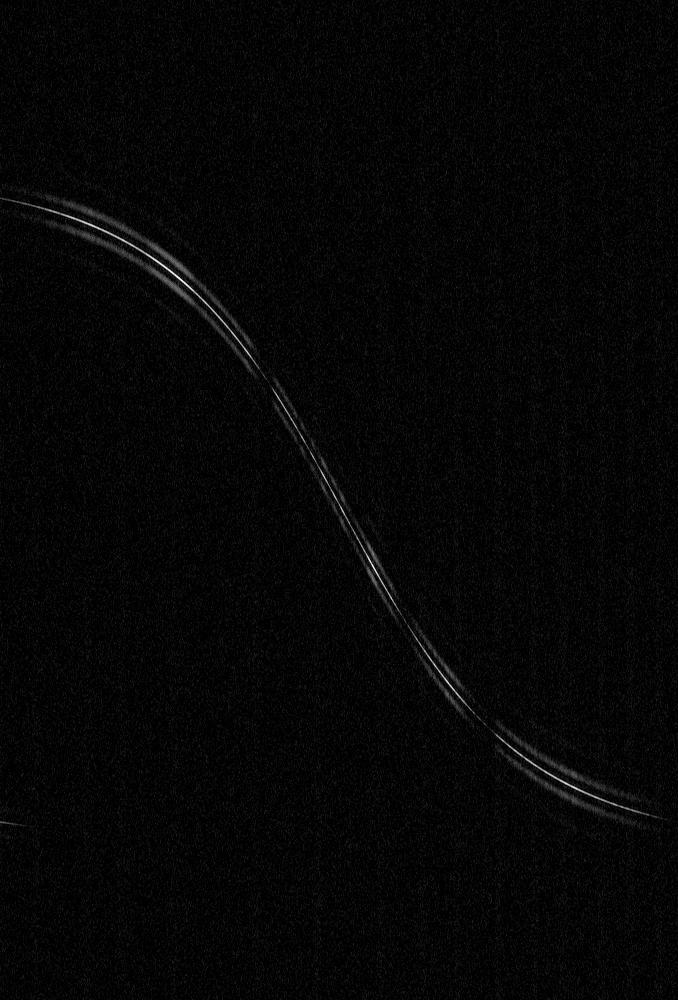signal: (0, 0, 677, 999)
